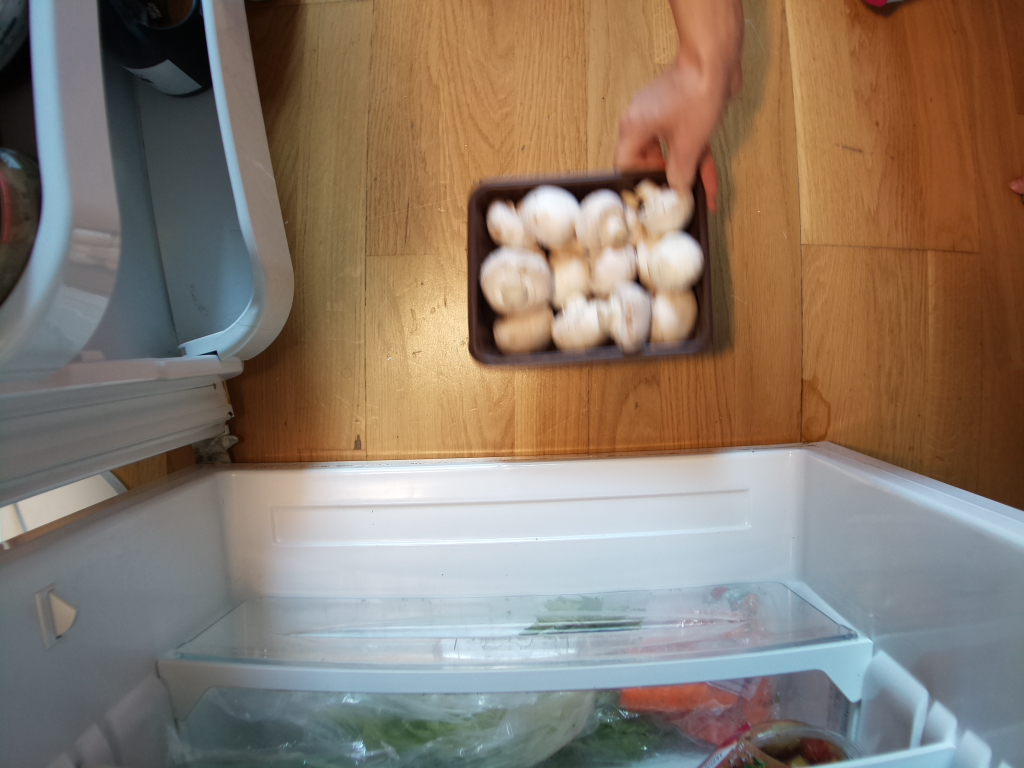mushrooms: (445, 158, 741, 381)
